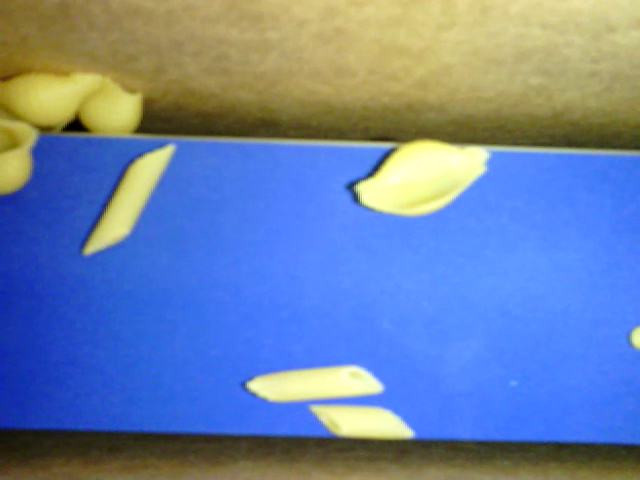penne: (82, 140, 178, 254), (243, 361, 384, 402), (316, 402, 416, 441)
shell: (353, 138, 490, 217), (1, 71, 105, 127), (80, 77, 140, 137), (1, 117, 41, 197)
